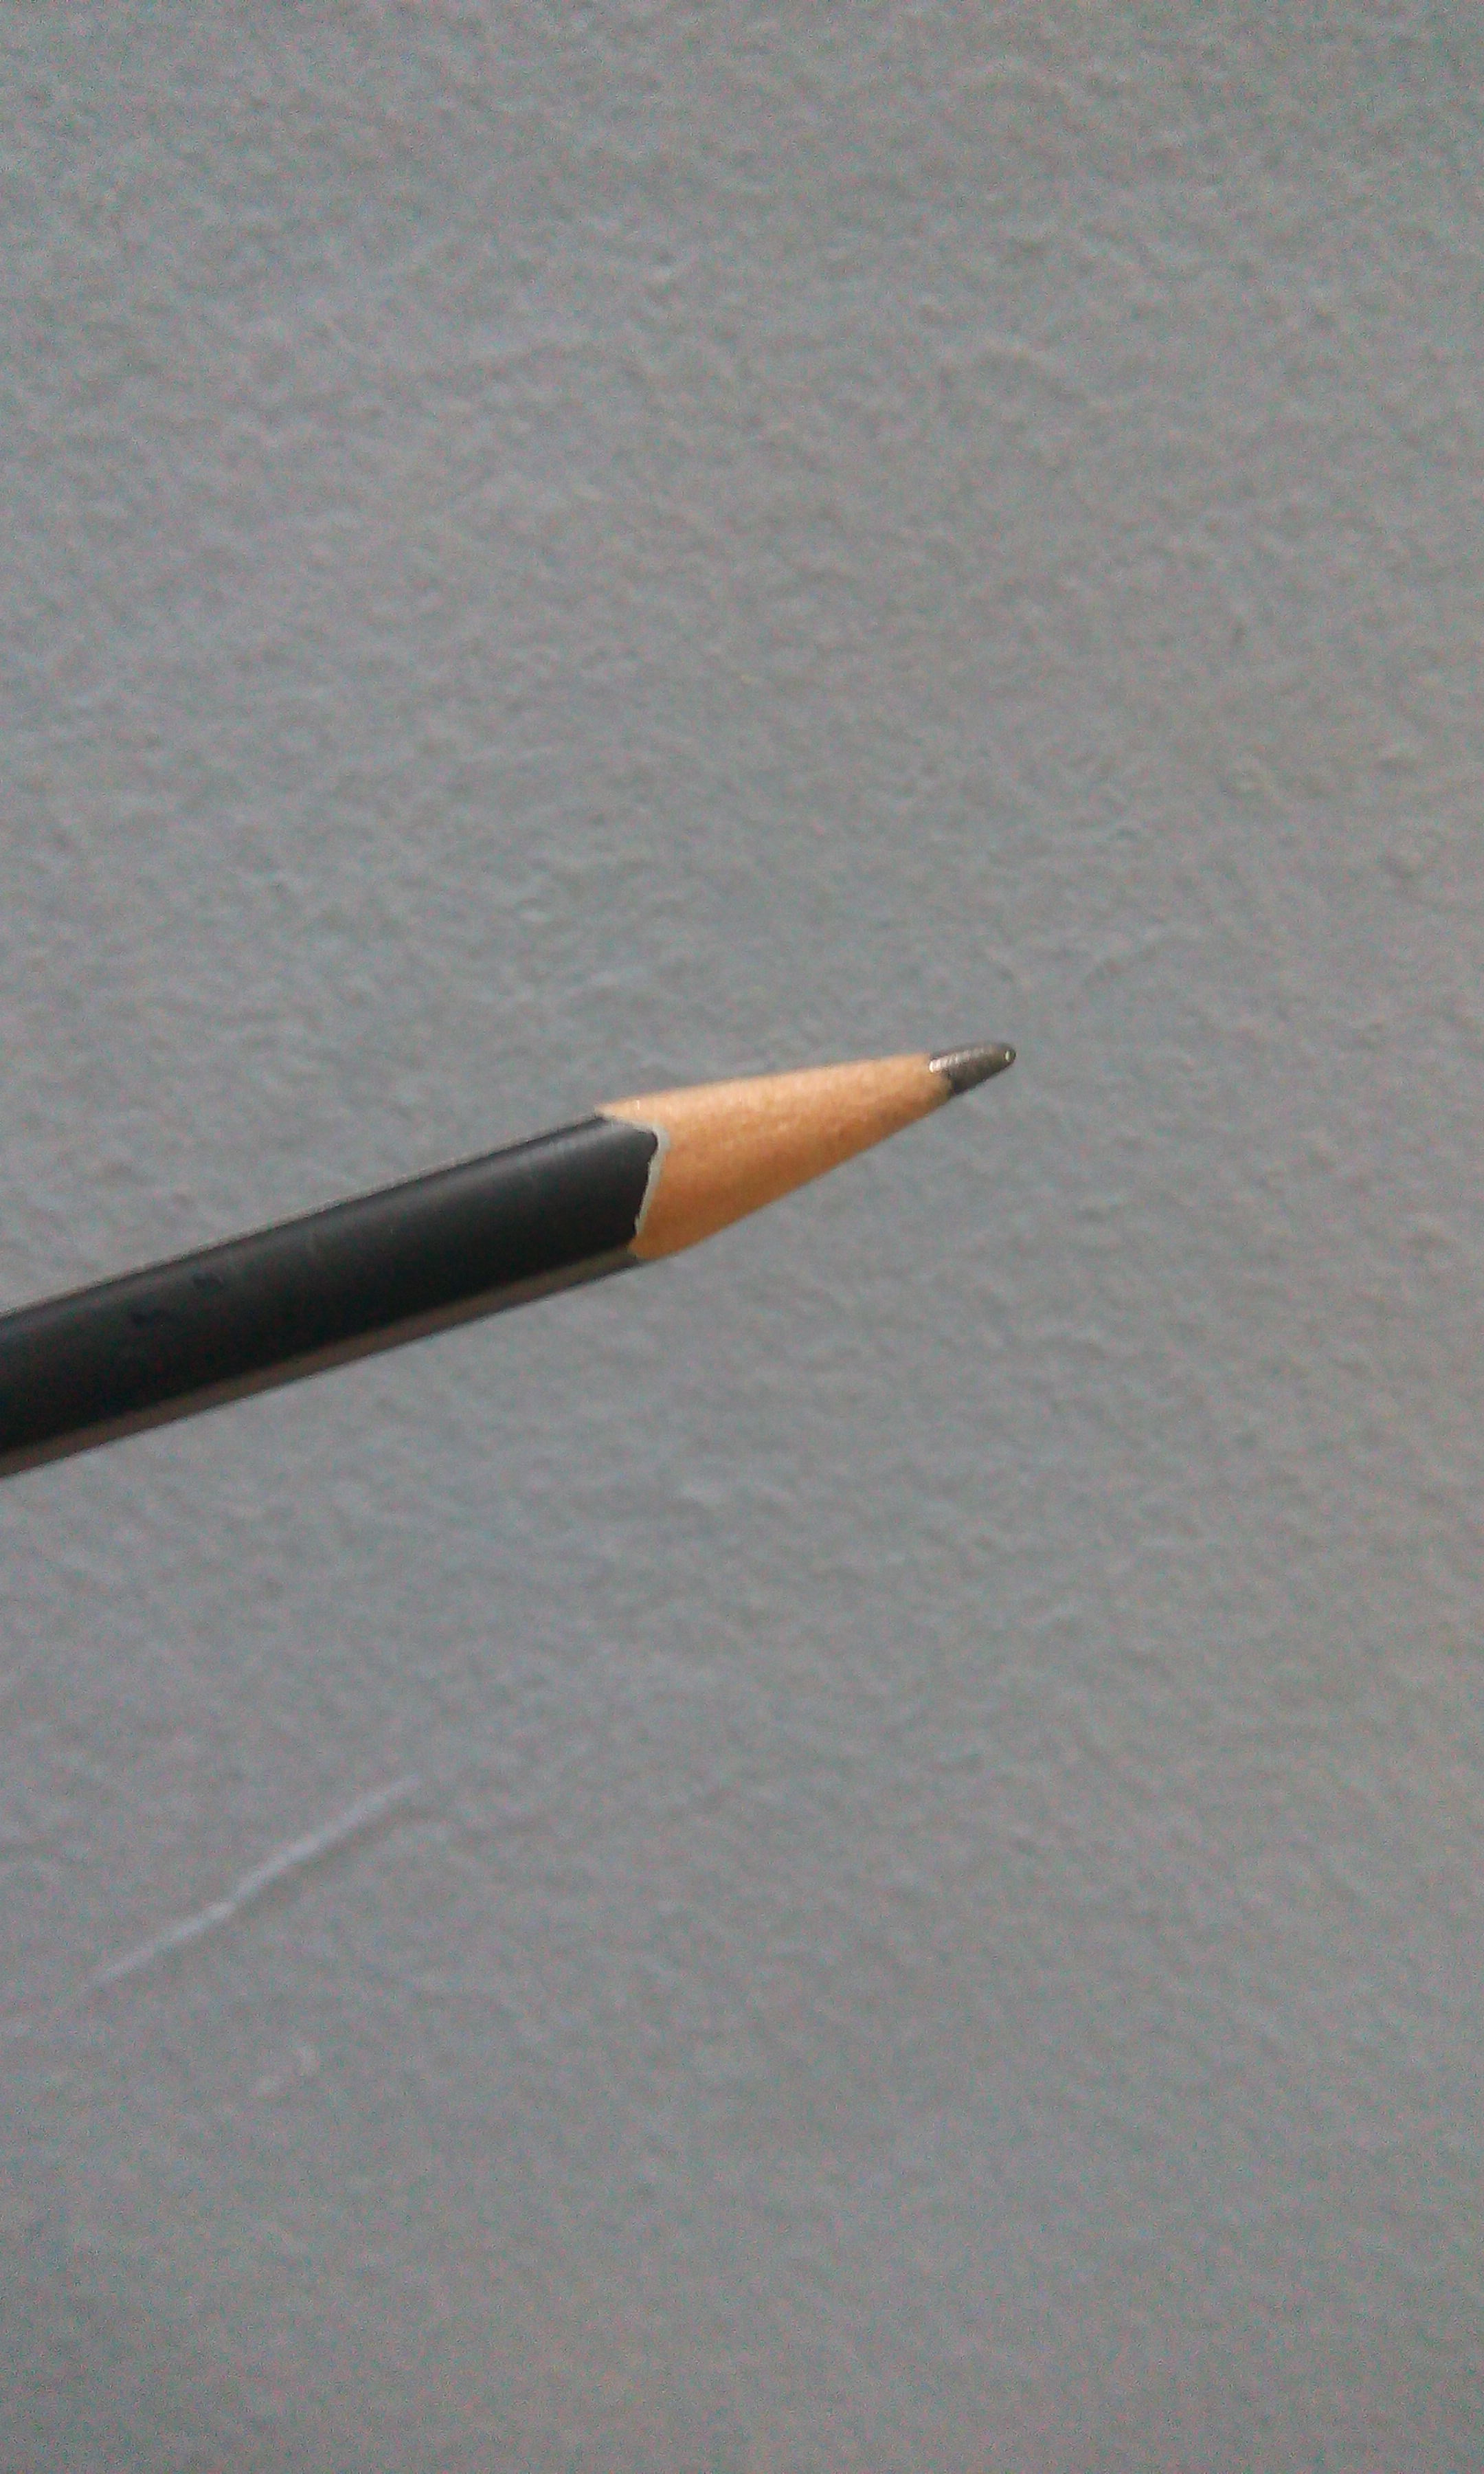pen_tip: (519, 924, 1154, 1385)
